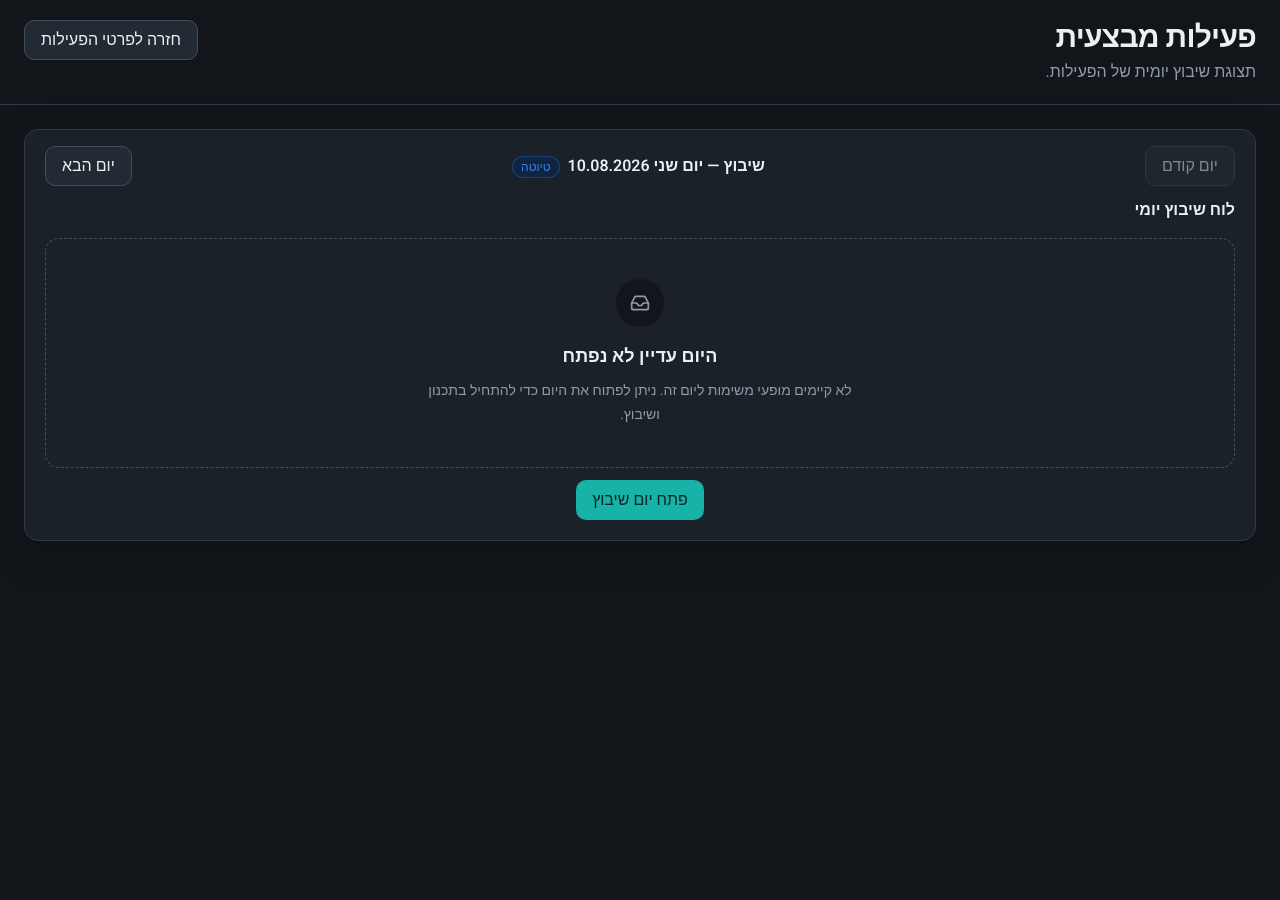
Test case: ActivityPlanningPage › shows approver actions in pending-approval status and keeps editing controls visible
This screenshot has width=1280, height=900.
Click the button "יום הבא": (88, 166) [45,146,132,186]
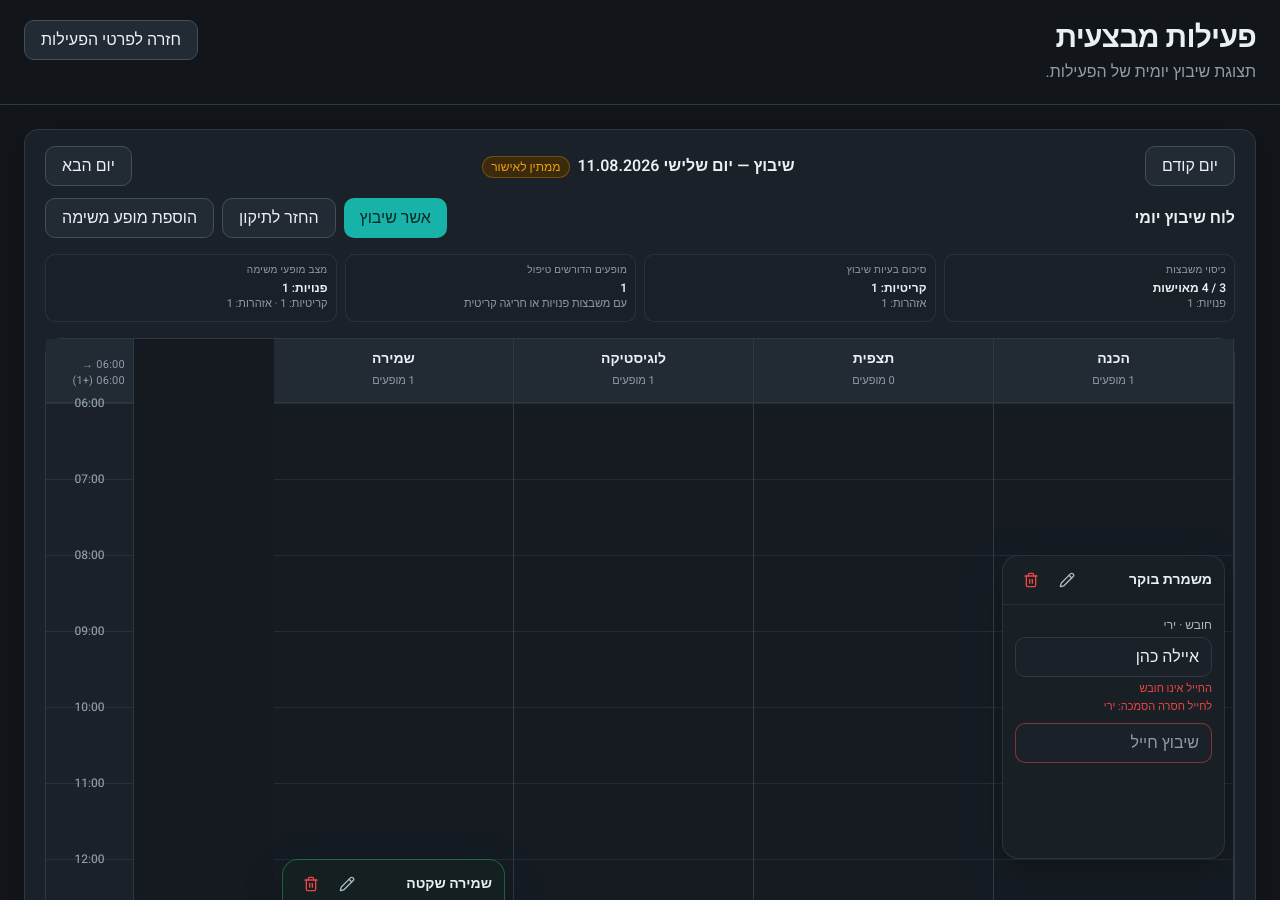
Check: the button "אשר שיבוץ" is shown, box [344,198,447,238]
Check: the button "החזר לתיקון" is shown, box [222,198,336,238]
Check: the button named "עריכת מופע משימה" next to "משמרת בוקר" is shown, box [1051,564,1083,596]
